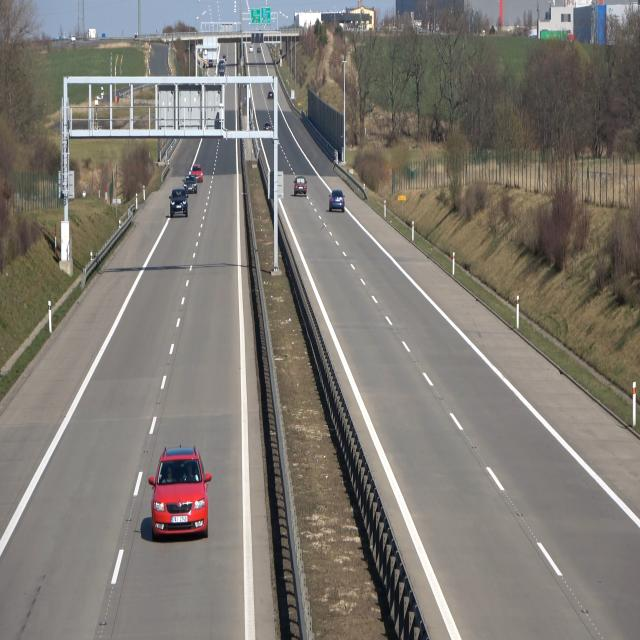Car: (151, 444, 215, 544), (168, 187, 188, 218), (328, 190, 346, 213), (184, 174, 198, 195), (294, 175, 307, 197), (192, 164, 204, 182)
